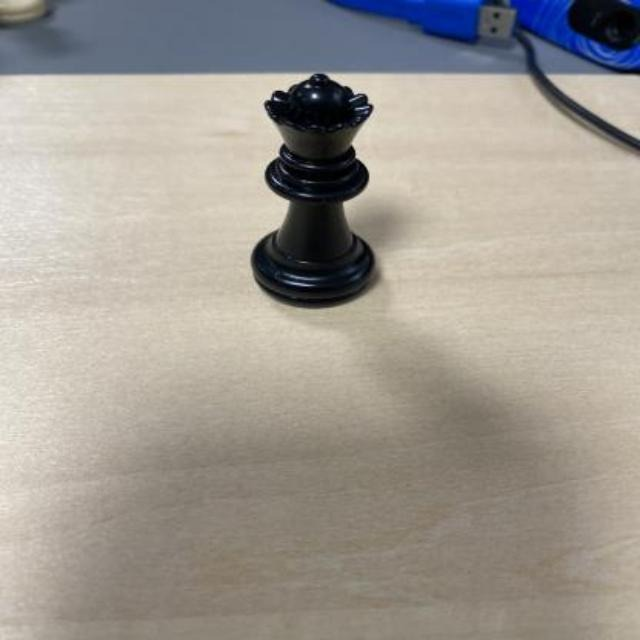black-queen: (251, 71, 377, 307)
